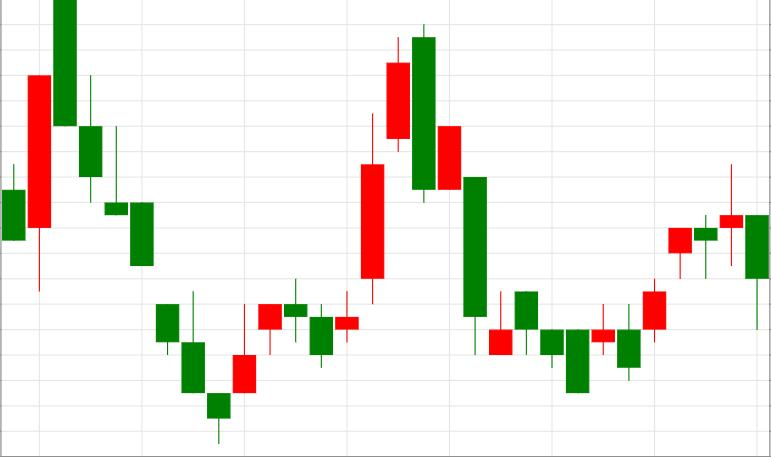bearish_engulfing_fall: (233, 24, 435, 394)
